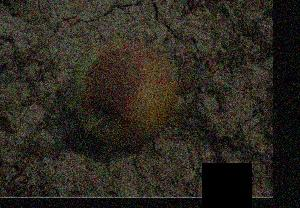rotten apple: (72, 42, 177, 147)
